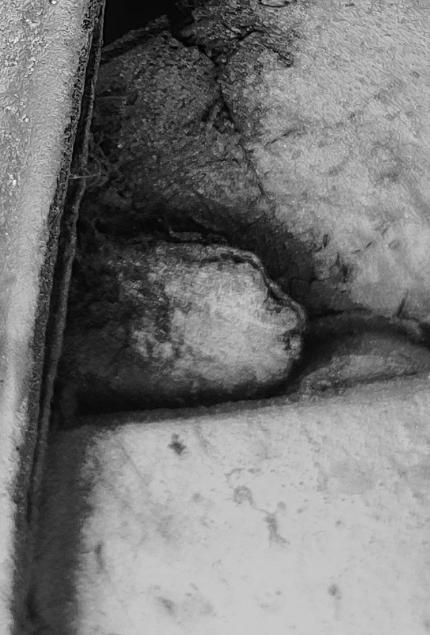crack: (0, 1, 430, 635)
